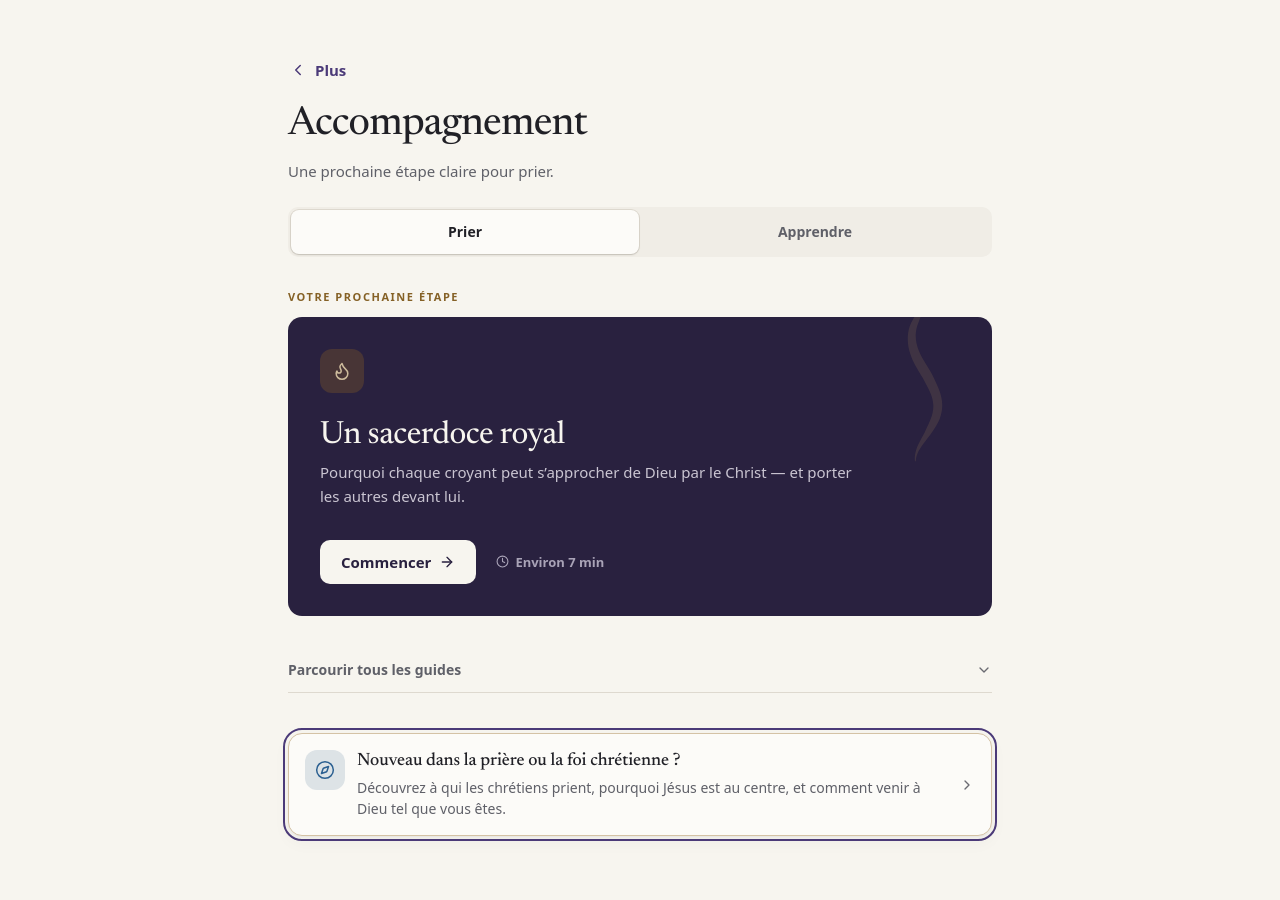
GrowTab — seeker card › returns focus to the card after the journey closes
Click the button "Nouveau dans la prière ou la foi chrétienne ?".
click(640, 785)  # box [288,733,992,836]
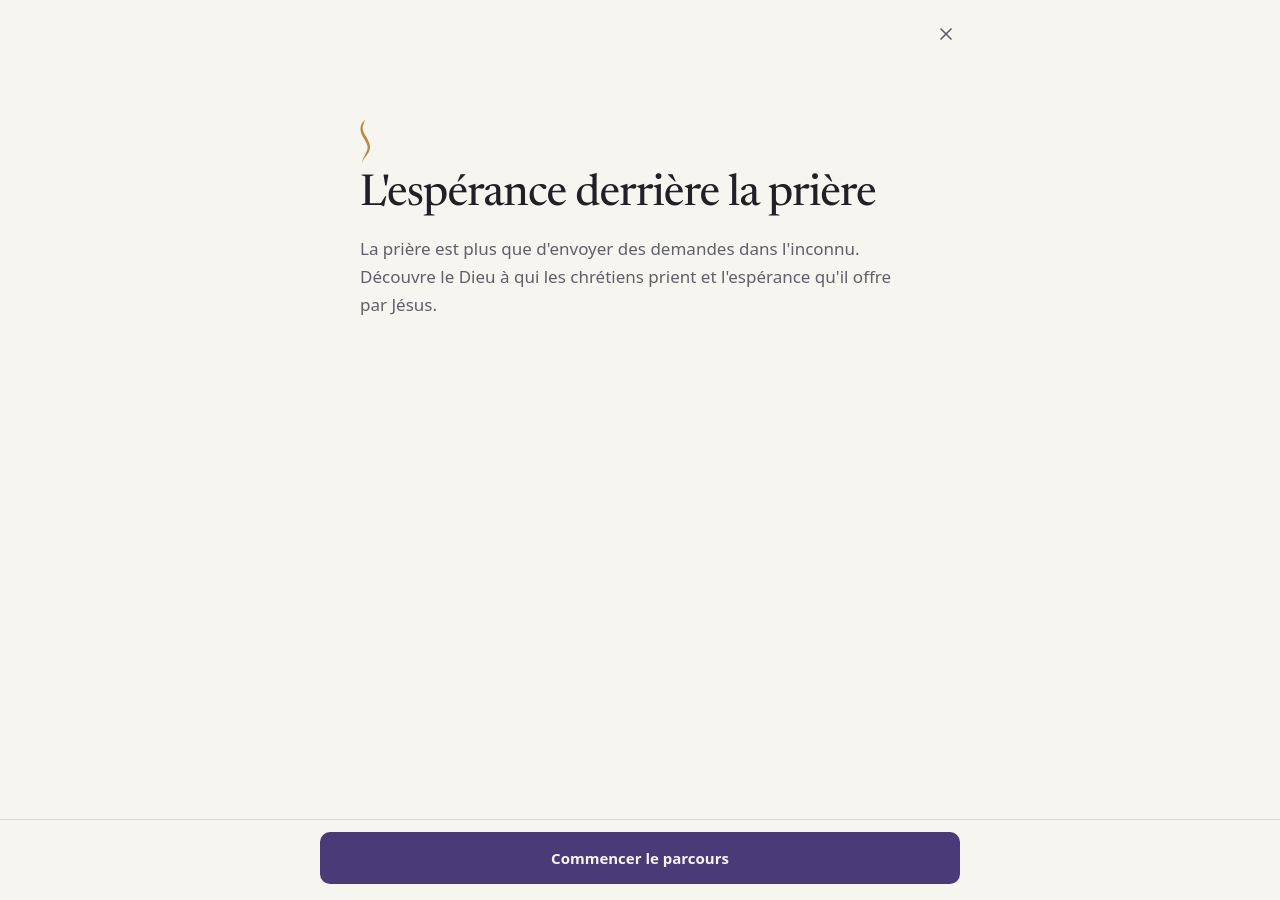
expect the dialog is shown: met
Click the button named "Fermer".
click(946, 34)  # box [924,12,968,56]
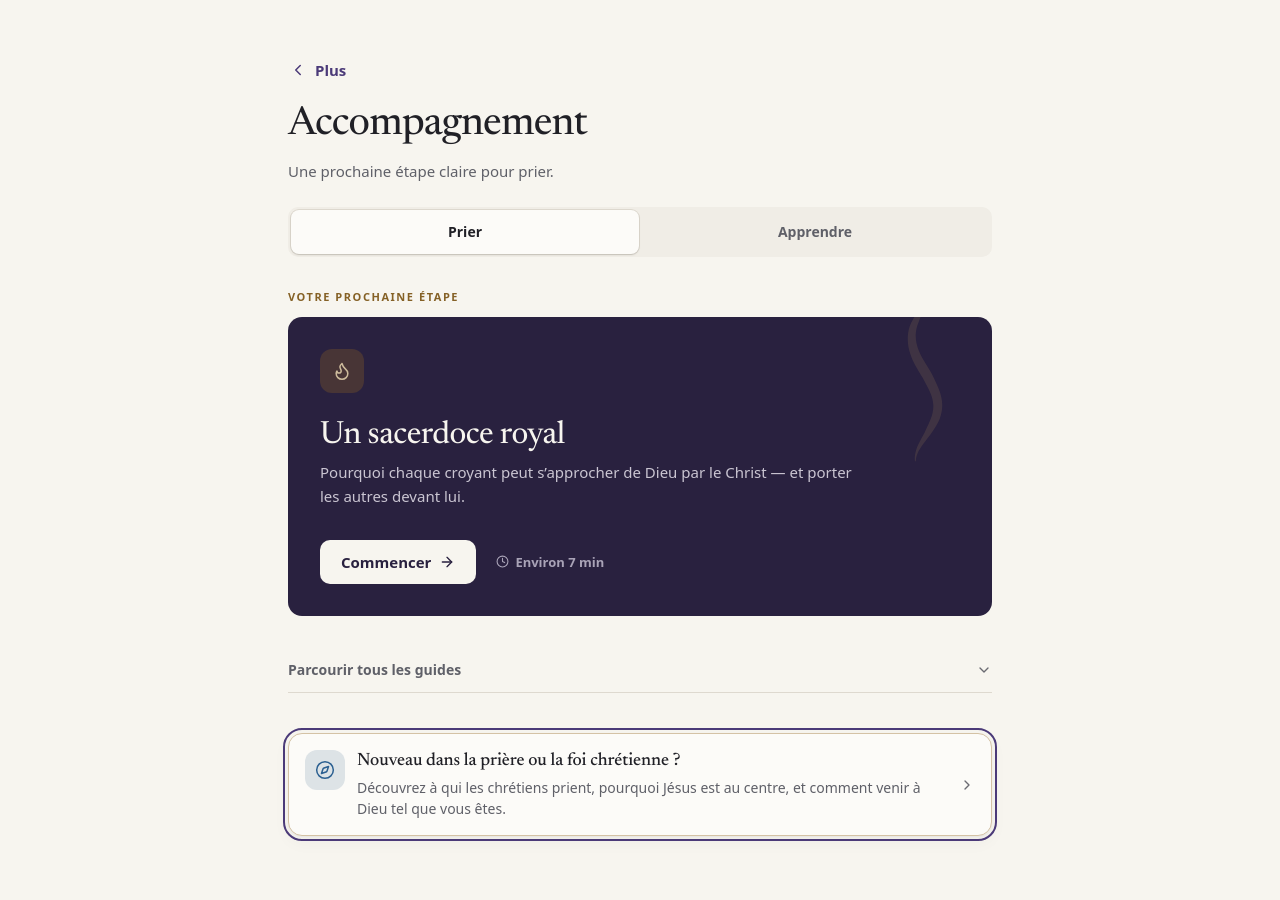
expect the dialog is gone: met
